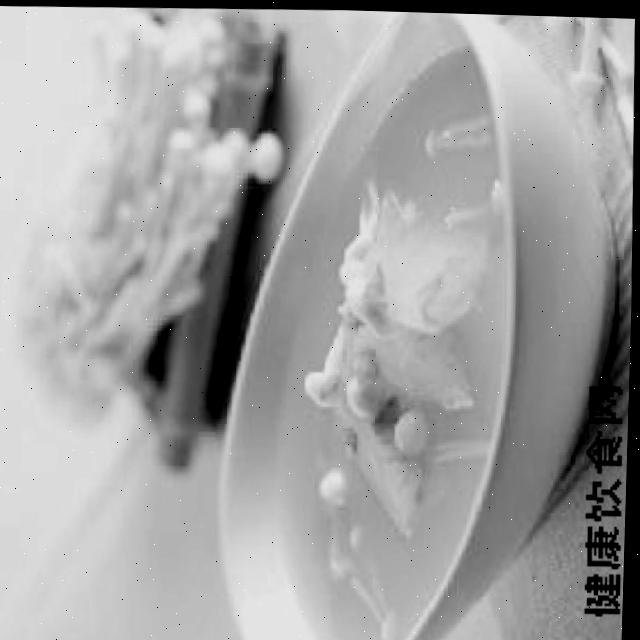汤锅炖物: (166, 4, 574, 640)
